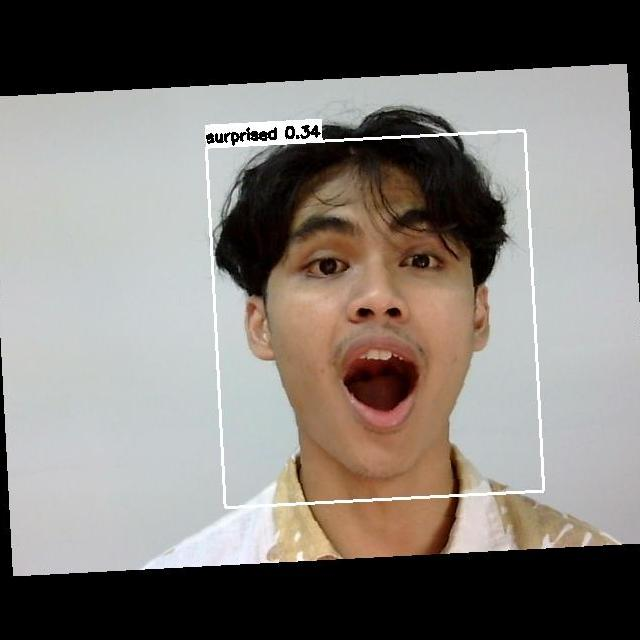Surprised: (257, 197, 474, 435)
